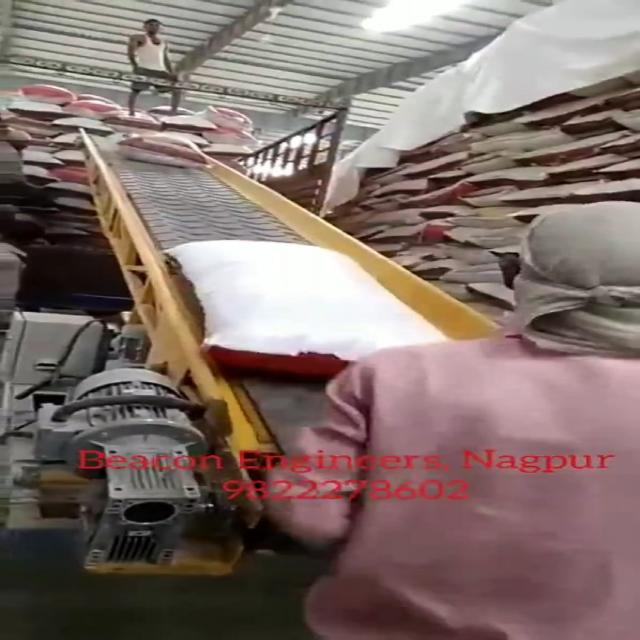Convoyeur: (83, 130, 561, 460)
